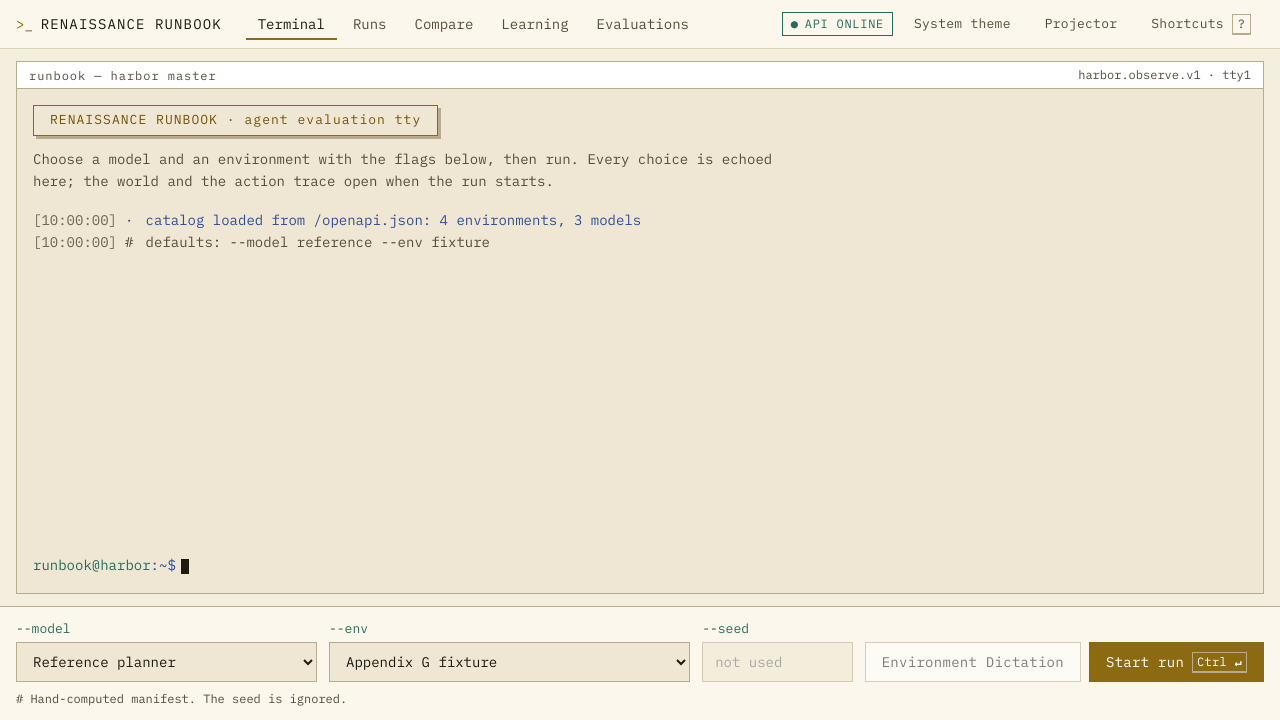
Test case: terminal › sends a chosen seed for generated scenarios and rejects an invalid one
Later steps or results of the test are not shown.
Select "Reactive closure" in the dropdown named "Environment" at (510, 662), box x1=329 y1=642 x2=690 y2=682
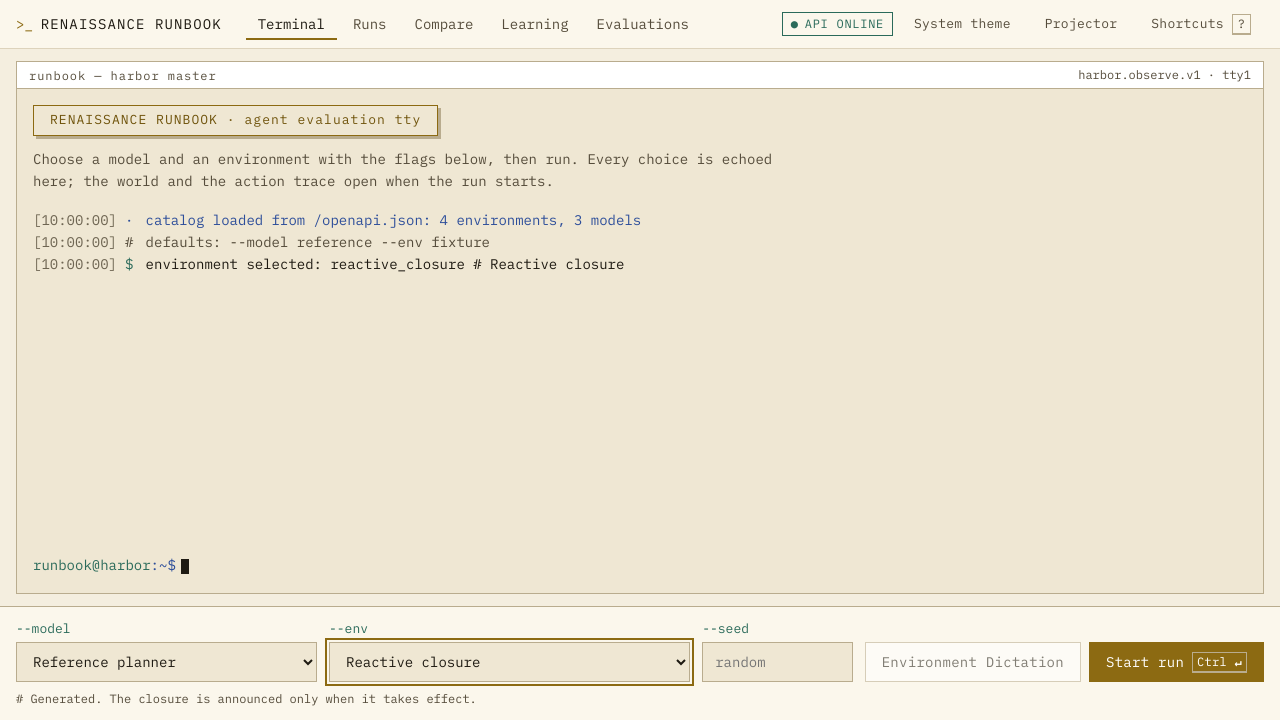
Type "12x" into the field labelled "seed" at (777, 662), box x1=702 y1=642 x2=853 y2=682
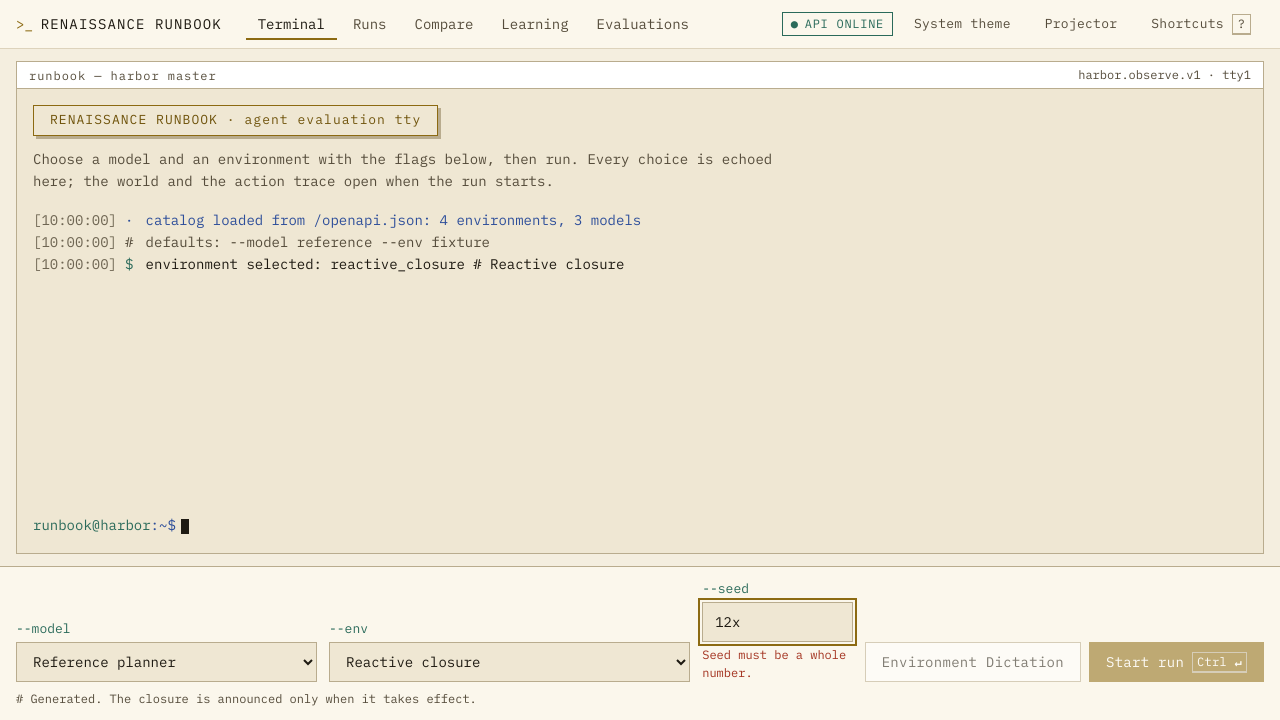
Now the button "Start run Ctrl ↵" is disabled, box x1=1089 y1=642 x2=1264 y2=682
